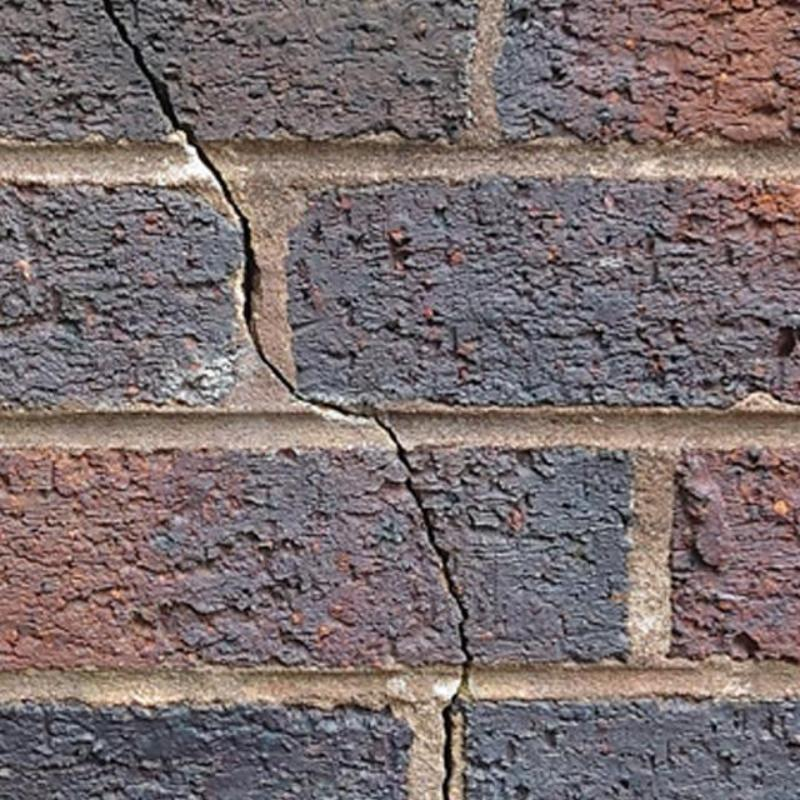pothole: (102, 0, 414, 473), (407, 478, 475, 800)
